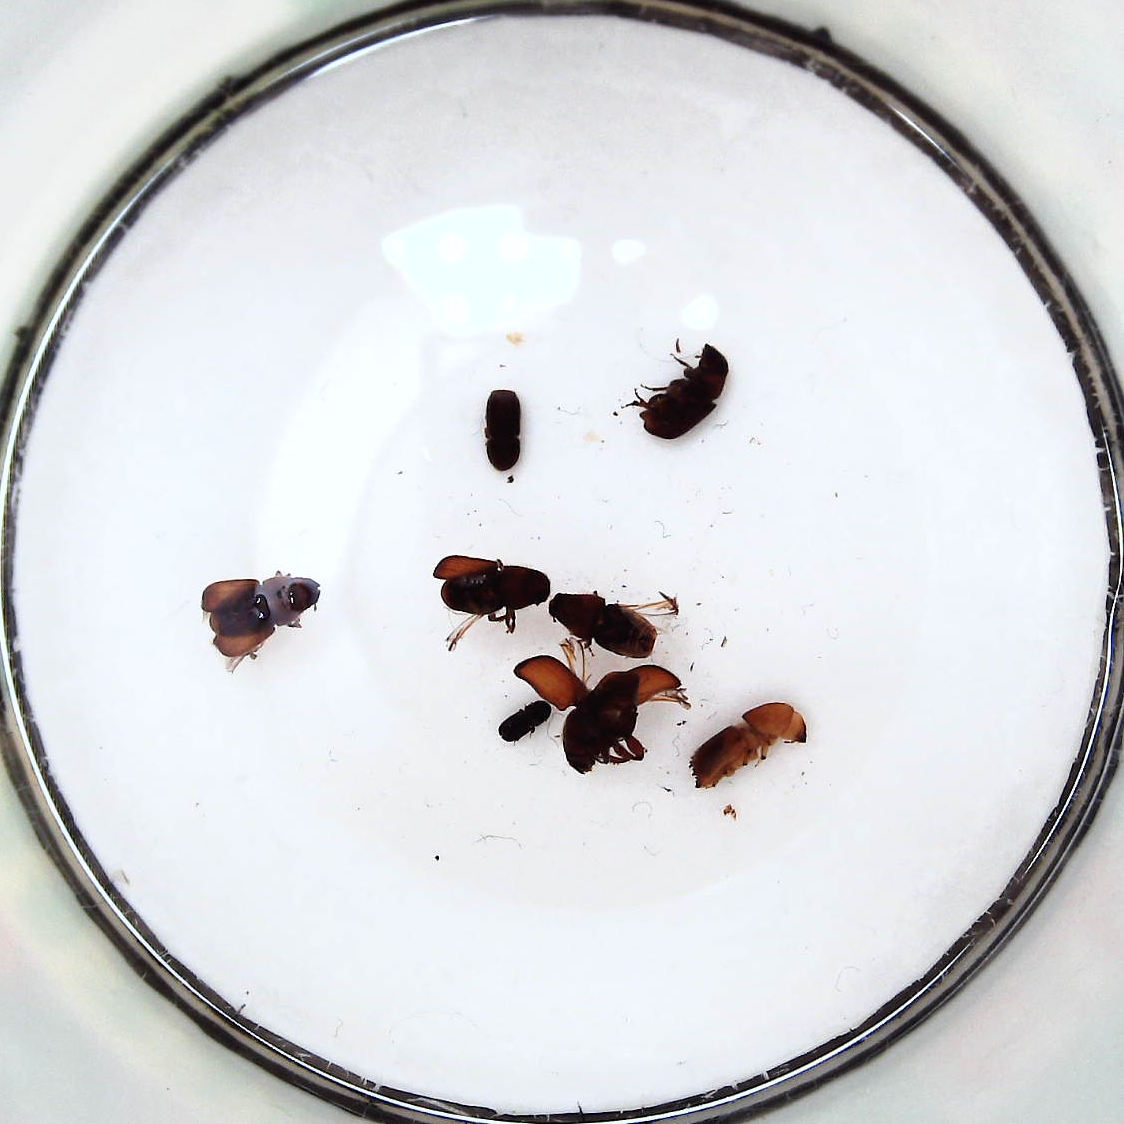Boerner: (689, 700, 809, 792)
Leconte: (519, 656, 688, 772), (199, 572, 319, 671), (430, 553, 550, 649), (620, 342, 731, 440), (546, 591, 676, 658)
Linnaeus: (481, 389, 525, 480)
acuminatus: (497, 700, 553, 745)
